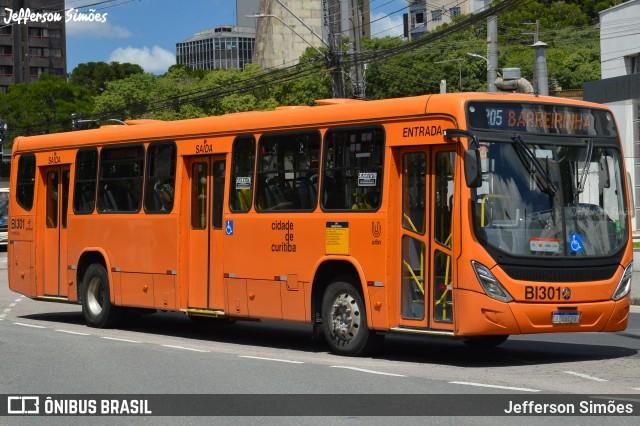BARREIRINHA: (505, 107, 593, 135)
